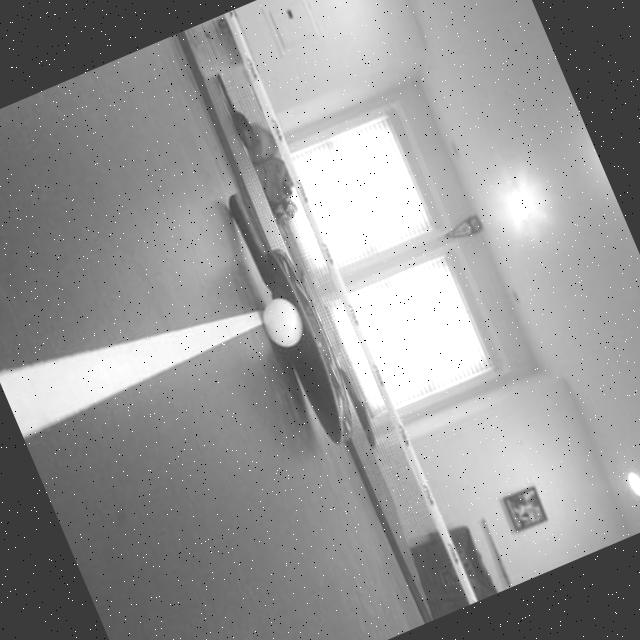ping-pong-ball: (256, 293, 311, 354)
